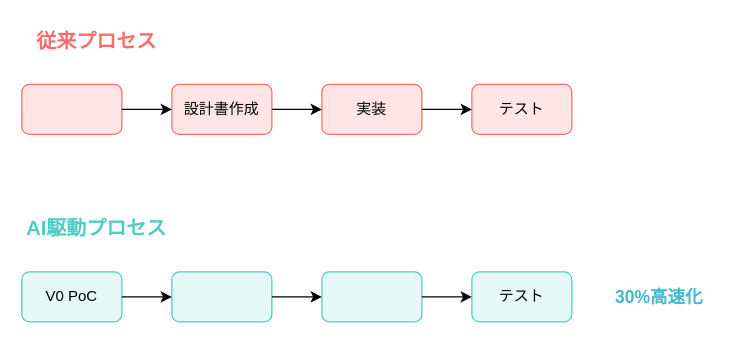
This 731x344 diagram has some shape labels left out. Each missing label, with the box of its shape:
Cline実装: (321, 271, 422, 322)
Cline設計書生成: (171, 271, 272, 322)
要件定義: (21, 83, 122, 134)
